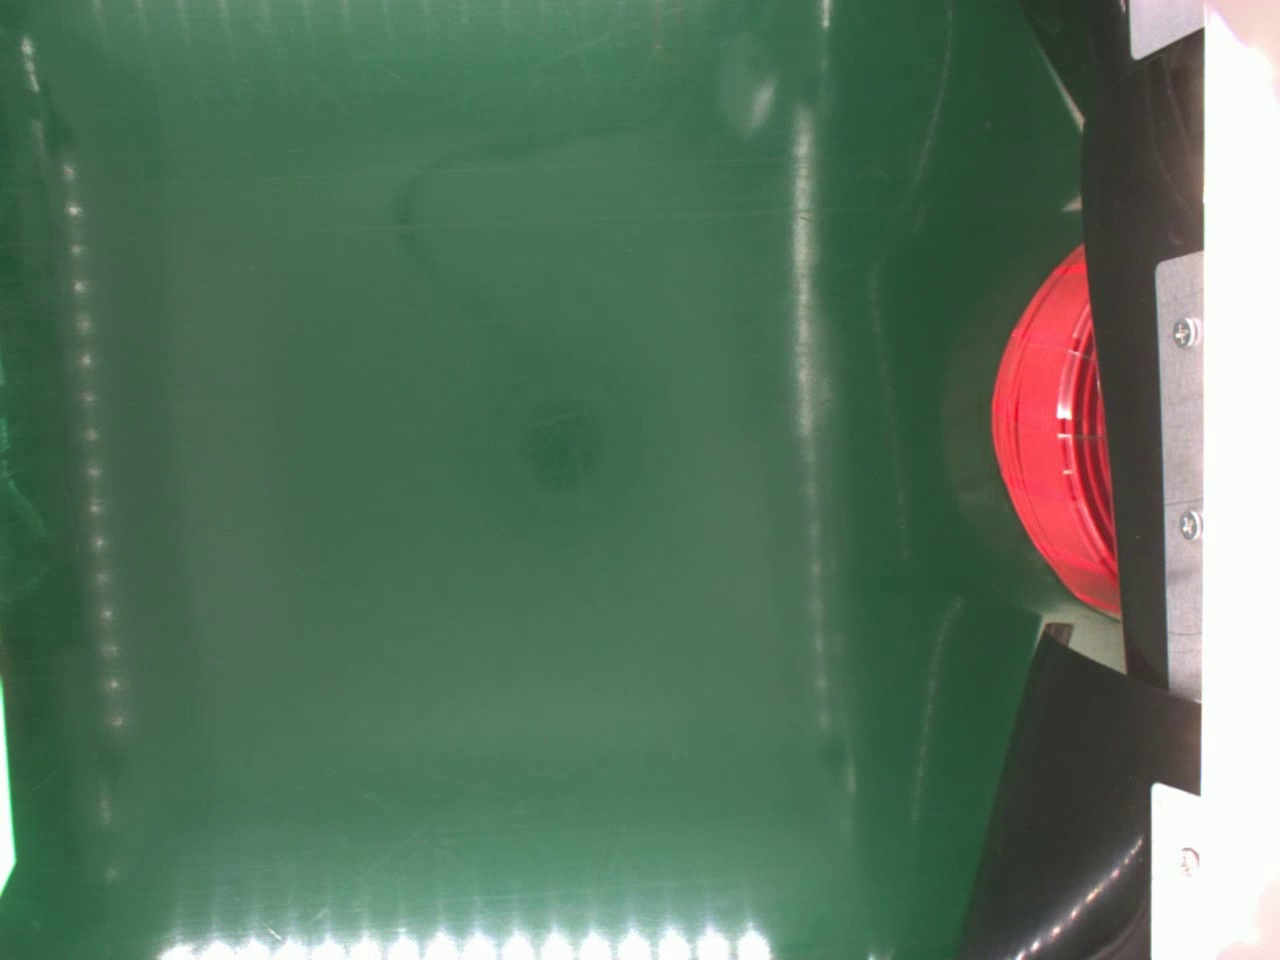red: (989, 243, 1117, 618)
